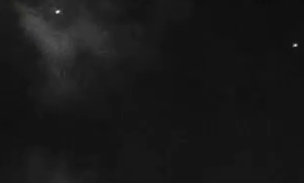Target: (56, 11, 297, 47)
